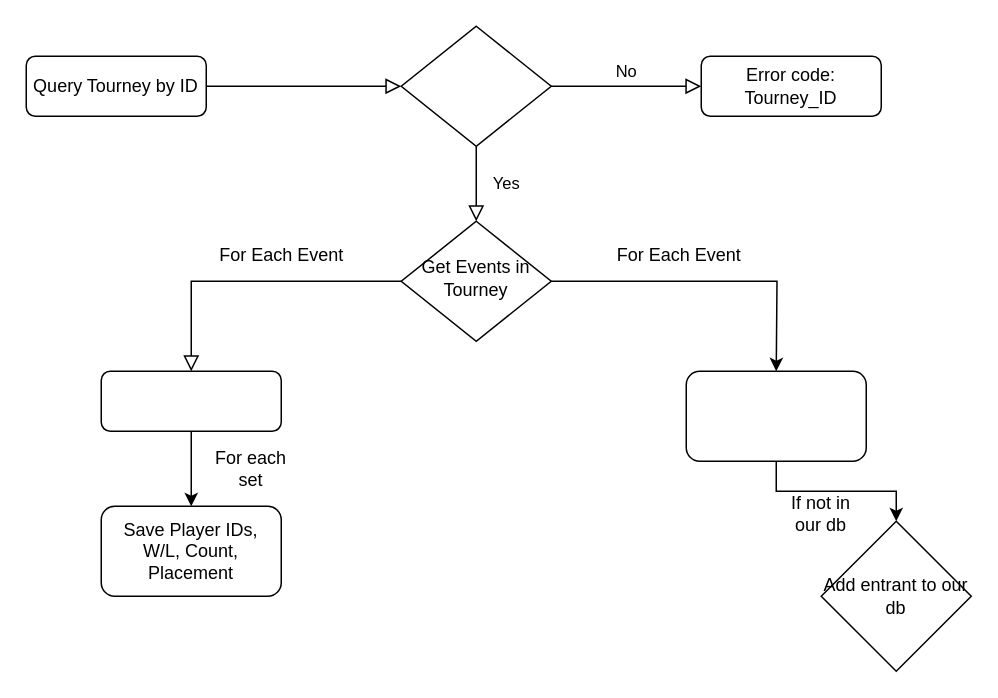
Image size: 998x698. Some labels were removed from this diagram. Each missing label, with the box of its shape:
Exists?: (400, 25, 551, 146)
Get entrants in event: (685, 370, 866, 461)
Get Sets In Event: (100, 370, 281, 431)
